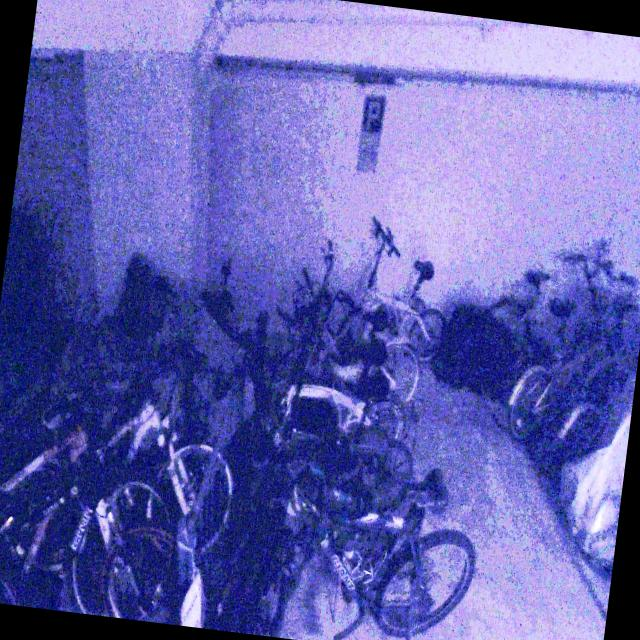bike: (12, 348, 247, 590), (238, 446, 486, 640), (0, 374, 187, 622), (503, 253, 640, 451), (278, 236, 435, 402), (328, 216, 458, 366), (481, 240, 614, 386)
